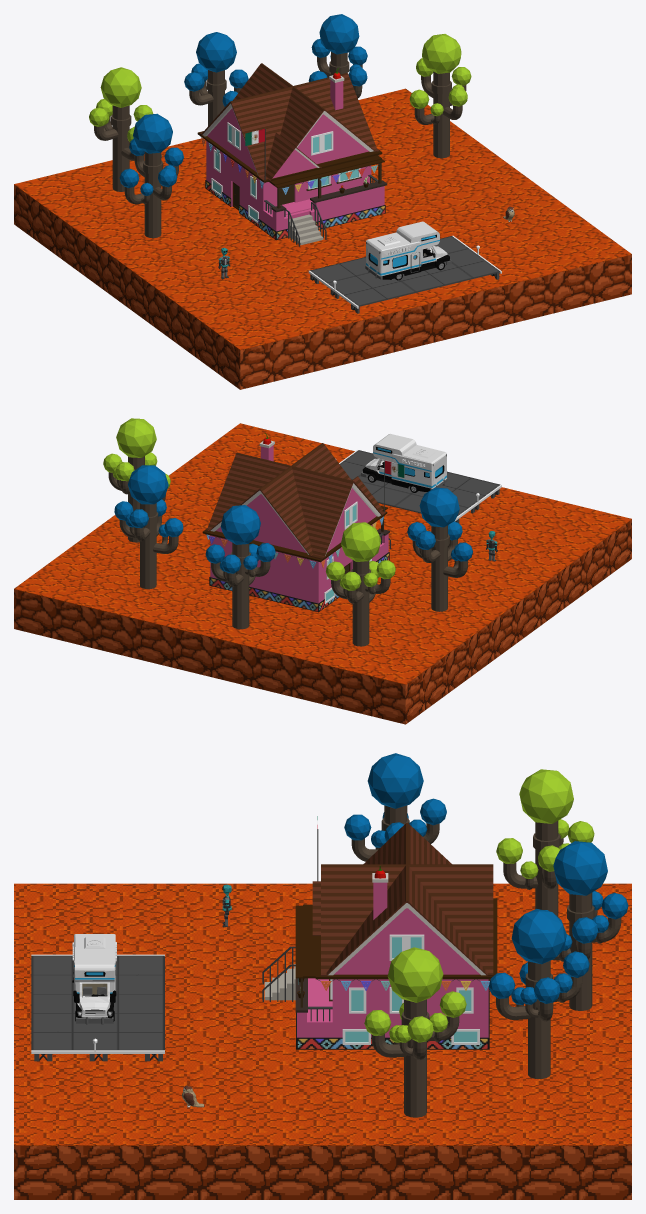
The picture shows the model from 3 angles, top to bottom: view 1: azimuth 30°, elevation 25°; view 2: azimuth 150°, elevation 25°; view 3: azimuth 270°, elevation 25°; orthographic projection. The views are drawn at different scales.
Visible parts, largest first — view 1: Cube.001, Cube.1005, VEHICLES_CAMPER; view 2: Cube.001, Cube.1005, VEHICLES_CAMPER; view 3: Cube.001, Cube.1005, VEHICLES_CAMPER.
Part boxes in pixels (x1,y1,x2,y2): Cube.001: (14, 14, 631, 389); Cube.1005: (197, 63, 387, 246); VEHICLES_CAMPER: (365, 221, 451, 280); Cube.001: (14, 418, 631, 724); Cube.1005: (202, 433, 404, 612); VEHICLES_CAMPER: (361, 434, 447, 492); Cube.001: (14, 753, 631, 1199); Cube.1005: (262, 816, 497, 1049); VEHICLES_CAMPER: (72, 934, 116, 1024).
Bounding box in the file's own units: 4000 × 1725 × 4000.
Materials: 72 (6 with a texture image).
